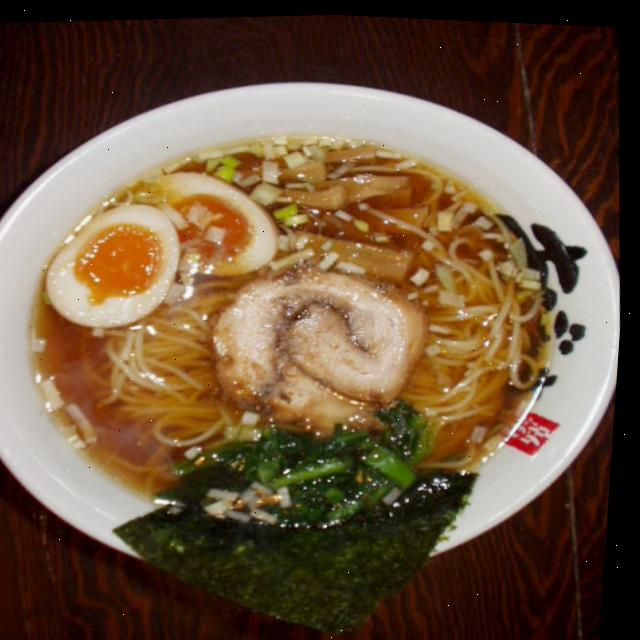面条主食: (0, 35, 638, 618)
